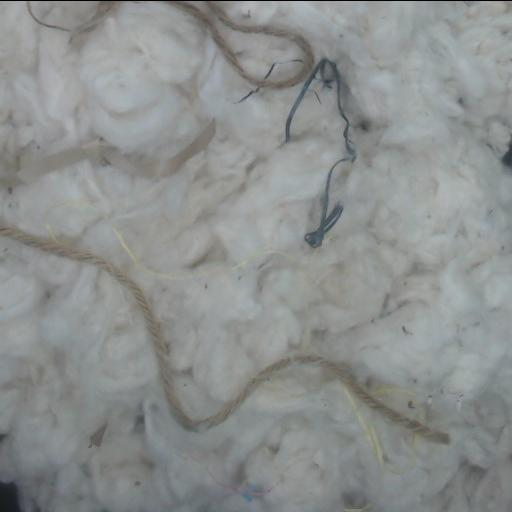cotton: (0, 1, 511, 512)
jute: (0, 221, 447, 443), (160, 1, 313, 87)
thread: (0, 121, 214, 185), (304, 60, 355, 248), (113, 226, 207, 281), (286, 87, 307, 140)
